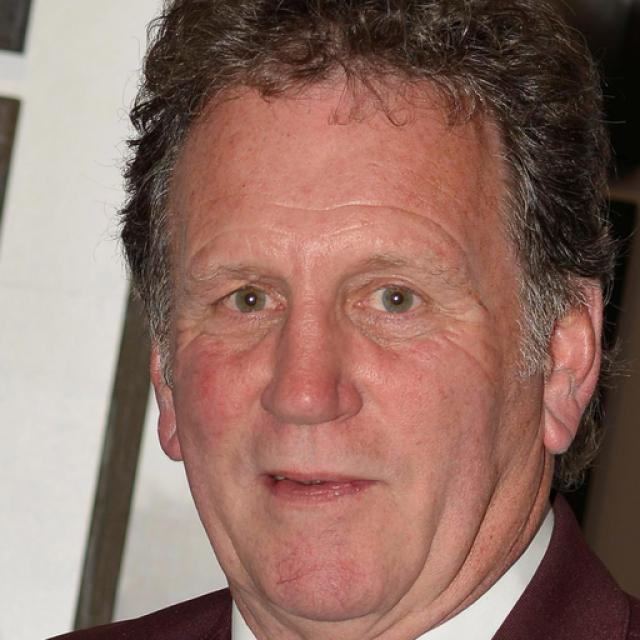Wrinkle: (250, 194, 466, 257), (185, 213, 381, 265)
